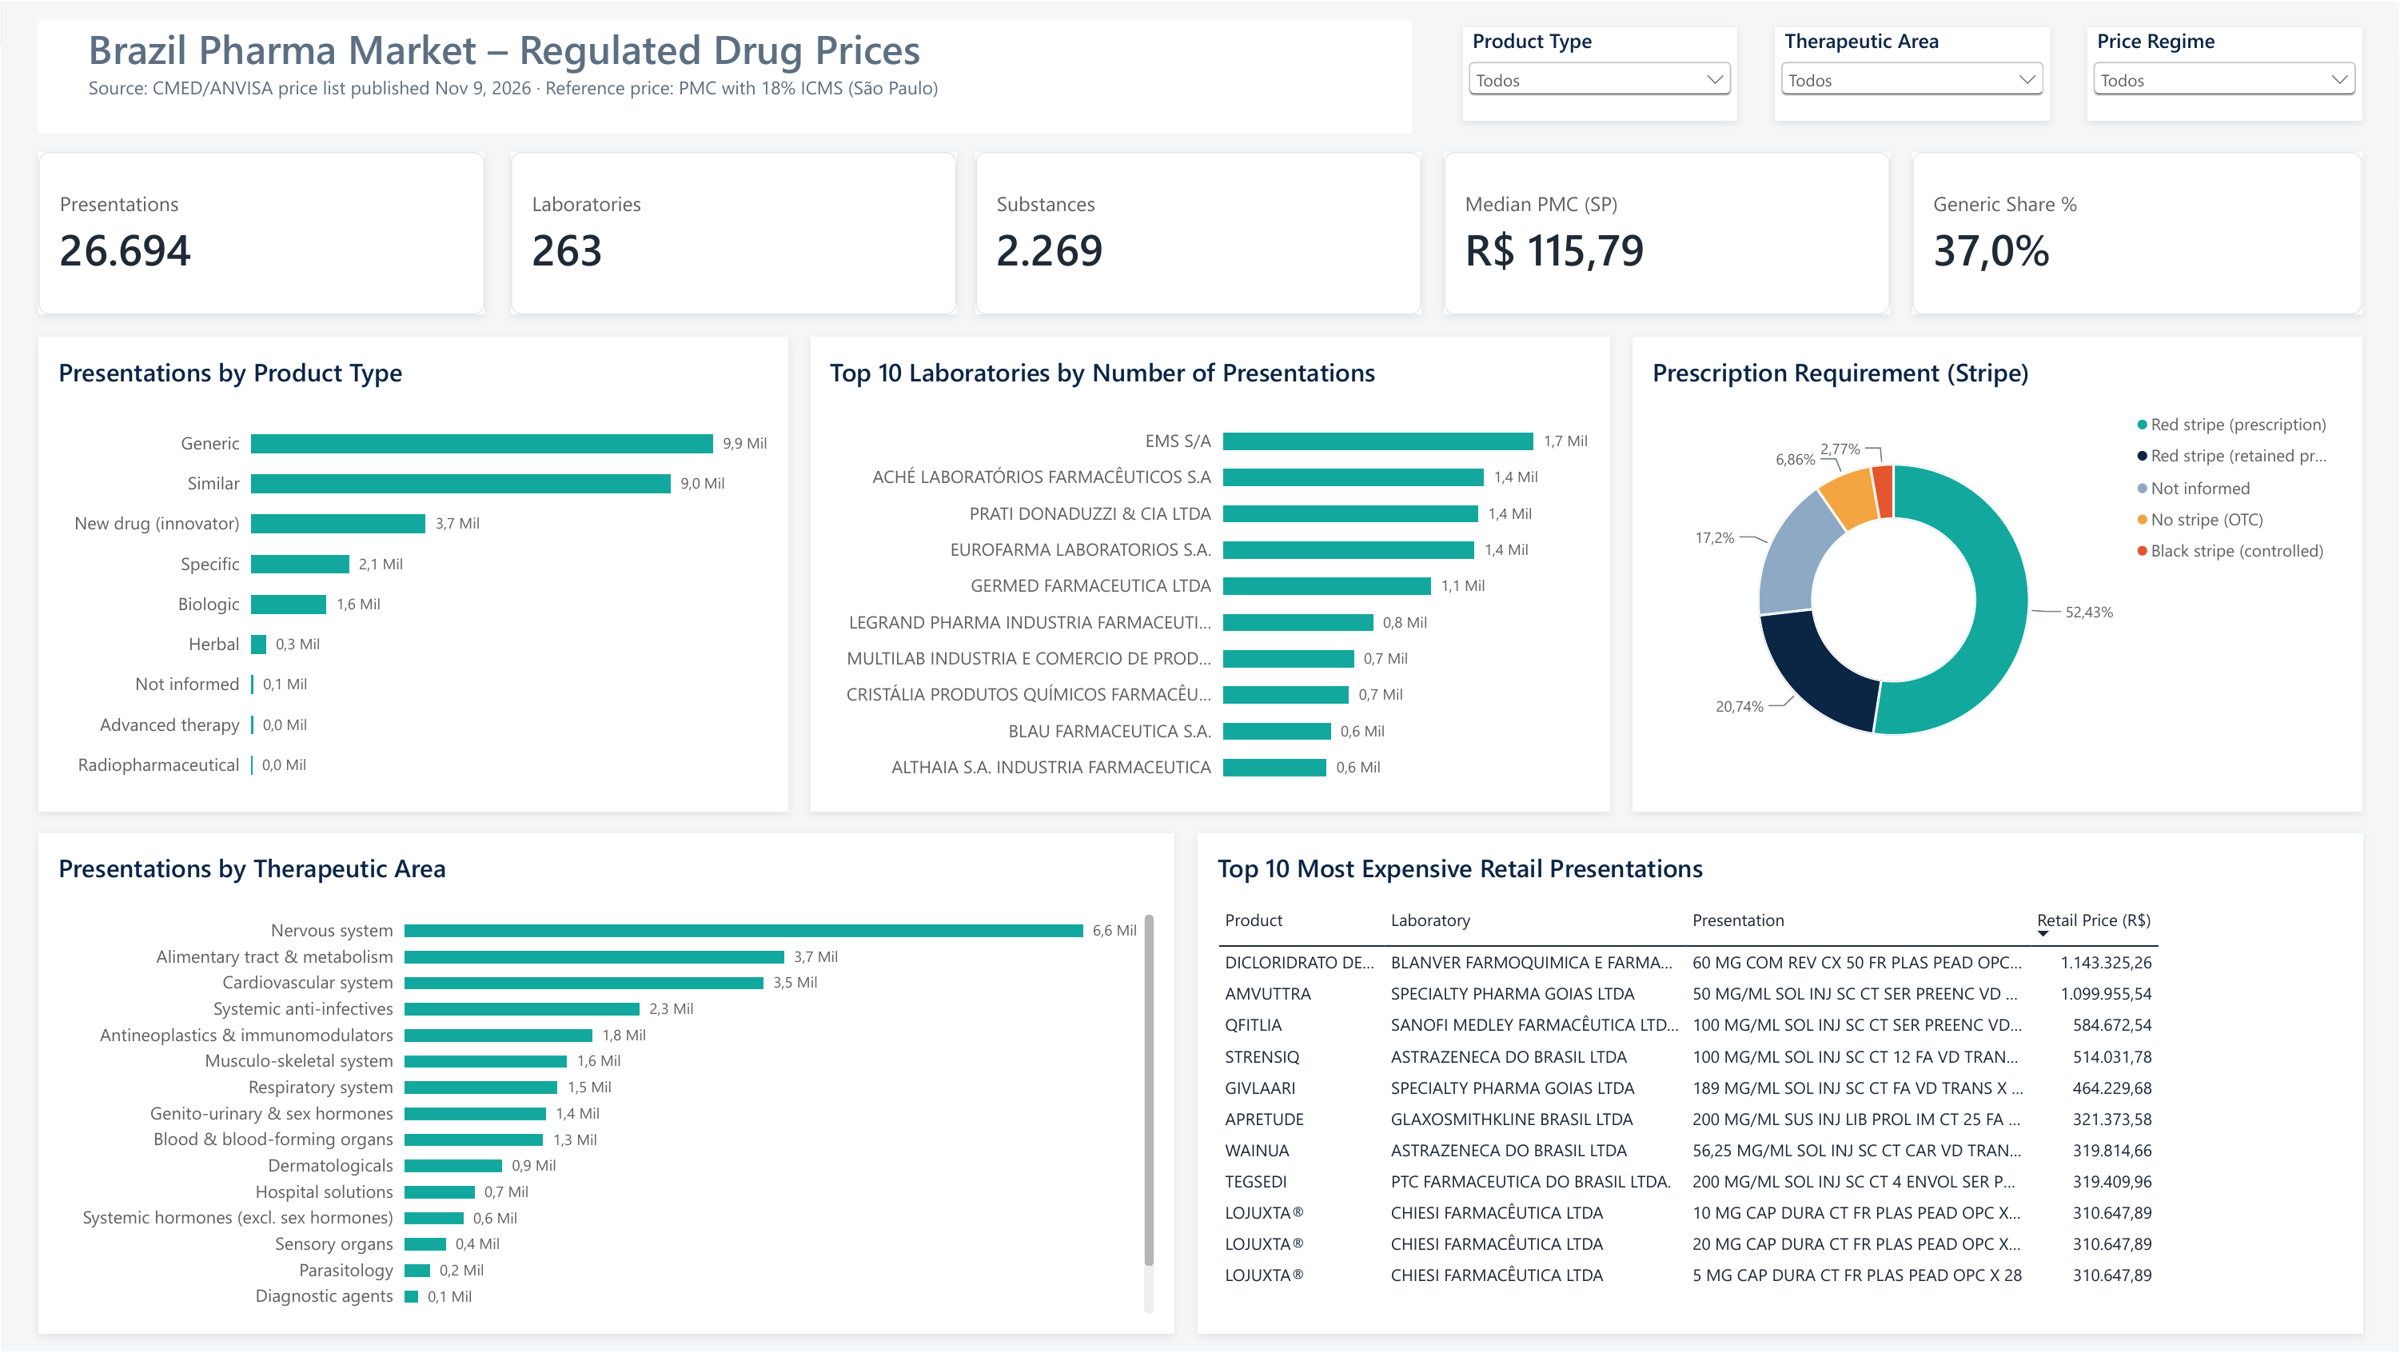

What the dashboard file says about the page in this screenshot:
{"tool":"powerbi","page":{"name":"Market Overview","canvas":[1920,1080],"ordinal":0},"visuals":[{"type":"textbox","box":[30,15,1100,90],"z":0},{"type":"slicer","fields":{"Values":["fact_presentation.product_type"]},"box":[1170,20,220,75],"z":1000},{"type":"slicer","fields":{"Values":["fact_presentation.anatomical_group"]},"box":[1420,20,220,75],"z":2000},{"type":"slicer","fields":{"Values":["fact_presentation.price_regime"]},"box":[1670,20,220,75],"z":3000},{"type":"cardVisual","fields":{"Data":["_Measures.Presentations (Card)"]},"box":[30,120,357,130],"z":4000},{"type":"cardVisual","fields":{"Data":["_Measures.Laboratories"]},"box":[408,120,357,130],"z":5000},{"type":"cardVisual","fields":{"Data":["_Measures.Substances (Card)"]},"box":[780,120,357,130],"z":6000},{"type":"cardVisual","fields":{"Data":["_Measures.Median PMC (SP)"]},"box":[1155,120,357,130],"z":7000},{"type":"cardVisual","fields":{"Data":["_Measures.Generic Share %"]},"box":[1530,120,360,130],"z":8000},{"type":"clusteredBarChart","title":"Presentations by Product Type","fields":{"Category":["fact_presentation.product_type"],"Y":["_Measures.Presentations"]},"box":[30,268,600,380],"z":9000},{"type":"clusteredBarChart","title":"Top 10 Laboratories by Number of Presentations","fields":{"Category":["fact_presentation.laboratory"],"Y":["_Measures.Presentations"]},"box":[648,268,640,380],"z":10000},{"type":"donutChart","title":"Prescription Requirement (Stripe)","fields":{"Category":["fact_presentation.stripe"],"Y":["_Measures.Presentations"]},"box":[1306,268,584,380],"z":11000},{"type":"clusteredBarChart","title":"Presentations by Therapeutic Area","fields":{"Category":["fact_presentation.anatomical_group"],"Y":["_Measures.Presentations"]},"box":[30,665.1,908.7,400.7],"z":12000},{"type":"tableEx","title":"Top 10 Most Expensive Retail Presentations","fields":{"Values":["fact_presentation.product","fact_presentation.laboratory","fact_presentation.presentation","Max(fact_presentation.pmc_sp)"]},"box":[958.4,665.1,932.8,400.7],"z":13000}]}

Visuals, with their boxes in screenshot pixels (x1, y1, x2, y2), scaled from the page's 1920x1080 canvas onto the 2400x1353 screenshot:
textbox: select_region(38, 19, 1412, 132)
slicer - fact_presentation.product_type: select_region(1462, 25, 1738, 119)
slicer - fact_presentation.anatomical_group: select_region(1775, 25, 2050, 119)
slicer - fact_presentation.price_regime: select_region(2088, 25, 2362, 119)
cardVisual - _Measures.Presentations (Card): select_region(38, 150, 484, 313)
cardVisual - _Measures.Laboratories: select_region(510, 150, 956, 313)
cardVisual - _Measures.Substances (Card): select_region(975, 150, 1421, 313)
cardVisual - _Measures.Median PMC (SP): select_region(1444, 150, 1890, 313)
cardVisual - _Measures.Generic Share %: select_region(1912, 150, 2362, 313)
"Presentations by Product Type" clusteredBarChart: select_region(38, 336, 788, 812)
"Top 10 Laboratories by Number of Presentations" clusteredBarChart: select_region(810, 336, 1610, 812)
"Prescription Requirement (Stripe)" donutChart: select_region(1632, 336, 2362, 812)
"Presentations by Therapeutic Area" clusteredBarChart: select_region(38, 833, 1173, 1335)
"Top 10 Most Expensive Retail Presentations" tableEx: select_region(1198, 833, 2364, 1335)
